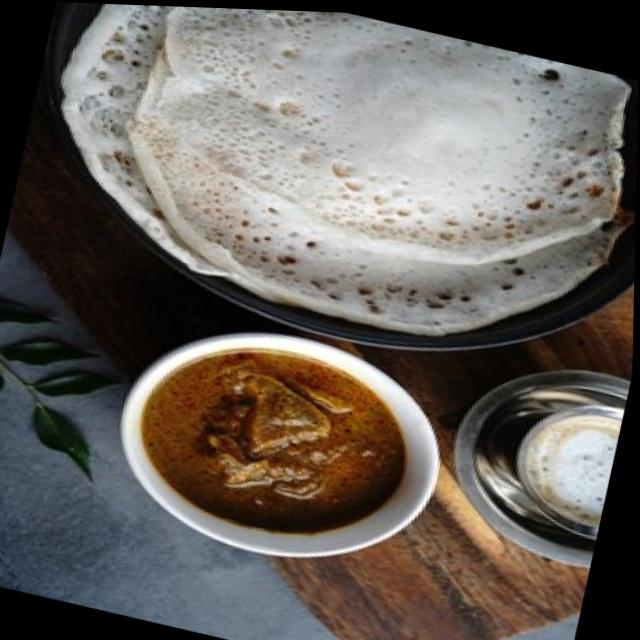FISH CURRY: (64, 4, 632, 325)
